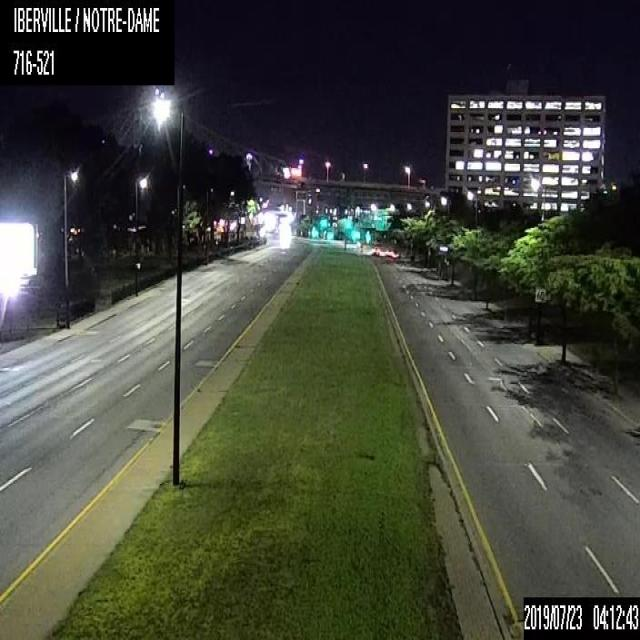vehicle: (370, 245, 379, 255)
